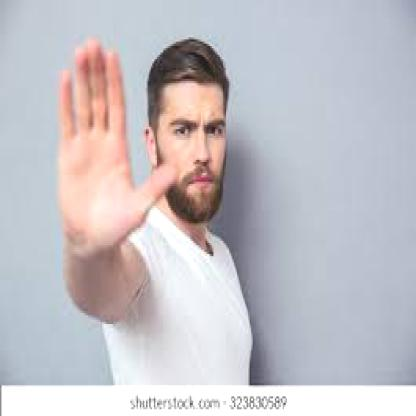Stop: (54, 41, 155, 267)
